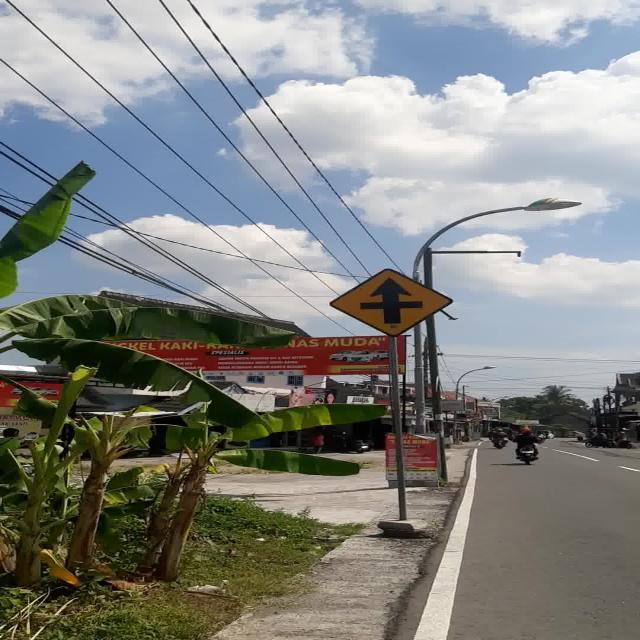Persimpangan 3 Prioritas: (328, 267, 455, 336)
